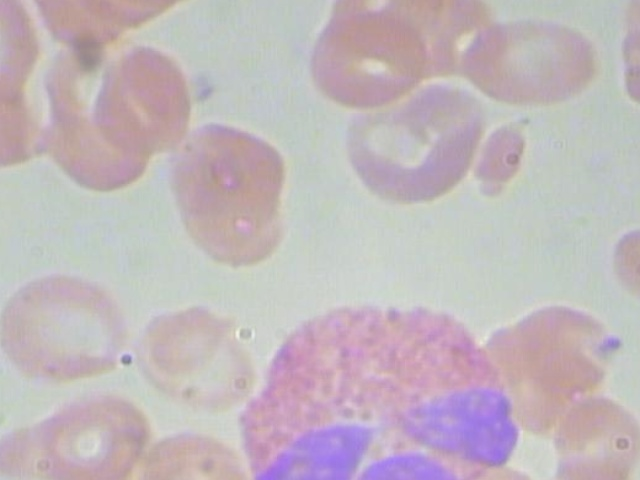RBC: (0, 266, 142, 394), (449, 10, 600, 107), (0, 388, 154, 480), (130, 298, 250, 410), (296, 10, 429, 111), (83, 38, 193, 155), (541, 388, 640, 480), (598, 21, 640, 122), (603, 216, 640, 318)
WBC: (234, 288, 530, 480)
